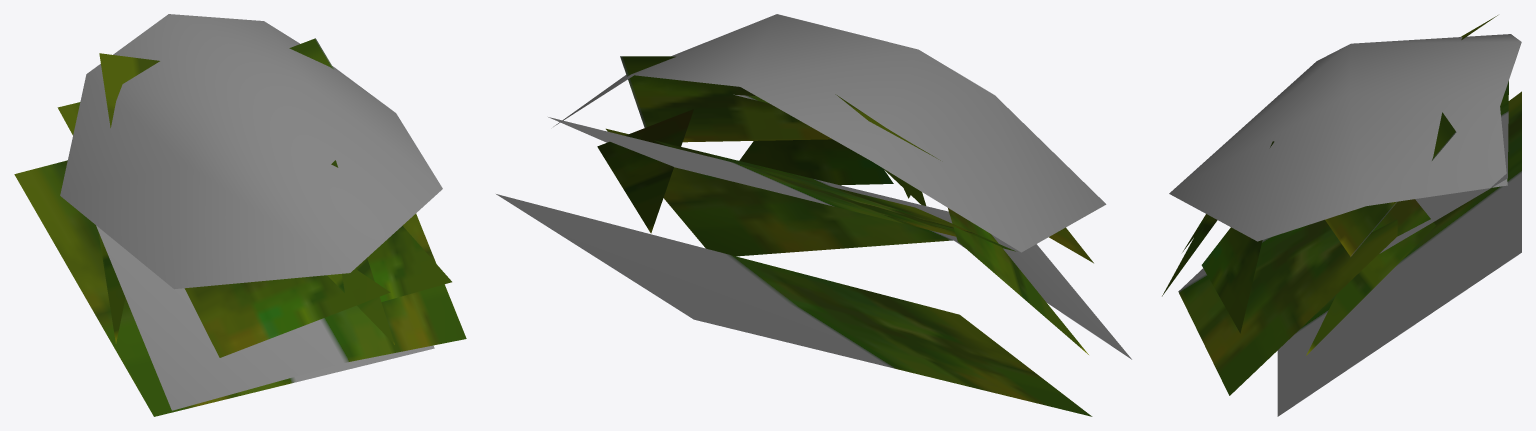
The model's file is fg_bushA_2_s.dae.
3 renders of one model, left to right at view 1: azimuth 30°, elevation 25°; view 2: azimuth 150°, elevation 25°; view 3: azimuth 270°, elevation 25°, orthographic. The views are drawn at different scales.
Parts seen in each view (by area): view 1: fg_bushA_2_s; view 2: fg_bushA_2_s; view 3: fg_bushA_2_s.
Boxes of the visible parts, <box> form: fg_bushA_2_s: <box>14,14,466,416</box>; fg_bushA_2_s: <box>496,14,1131,416</box>; fg_bushA_2_s: <box>1162,15,1521,416</box>.
Size of the model in its own units: 42.31 by 35.32 by 38.65.
Materials: 1 (1 with a texture image).
